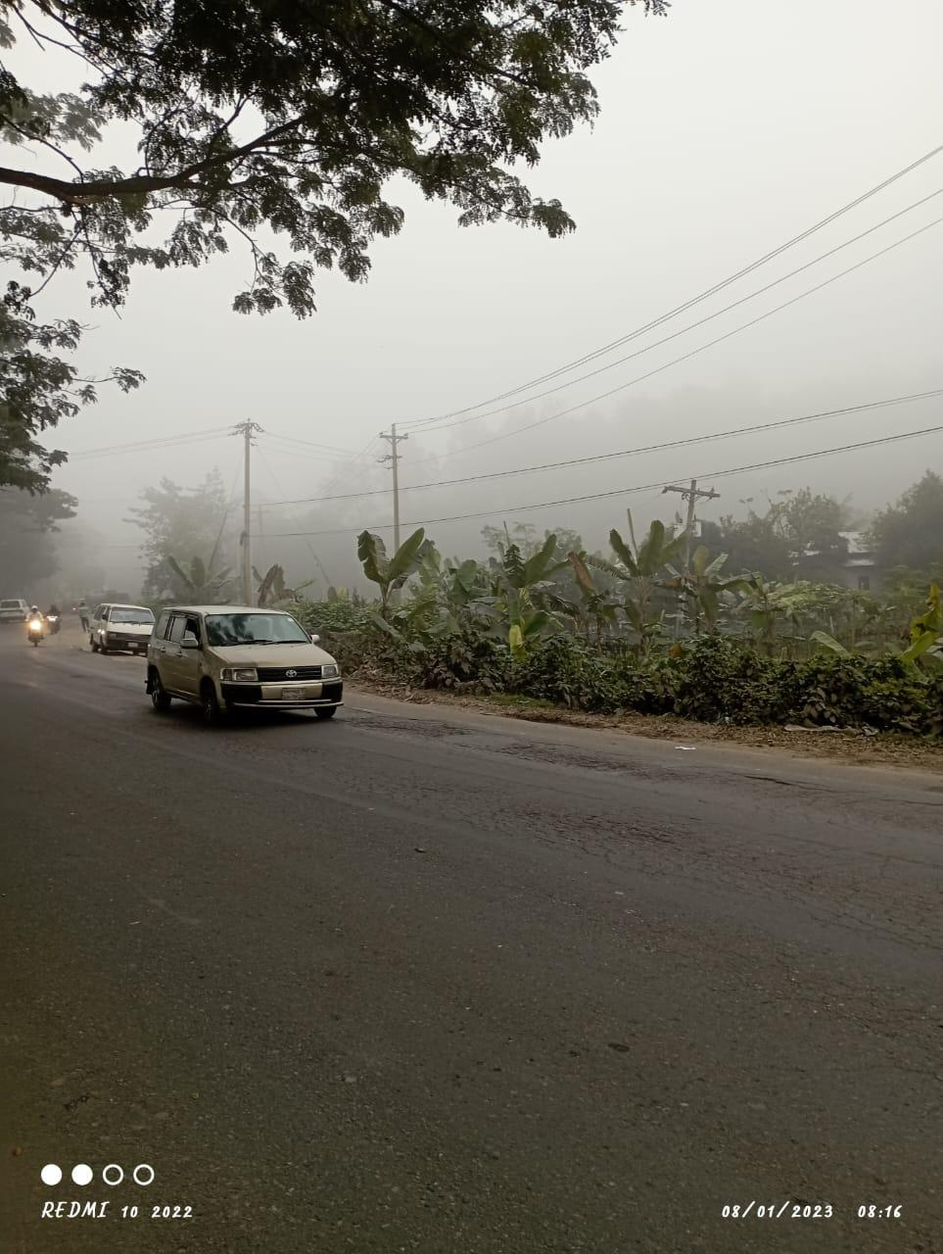Bike: (22, 601, 46, 650), (43, 602, 66, 637)
Car: (147, 595, 351, 728), (80, 597, 157, 655)
